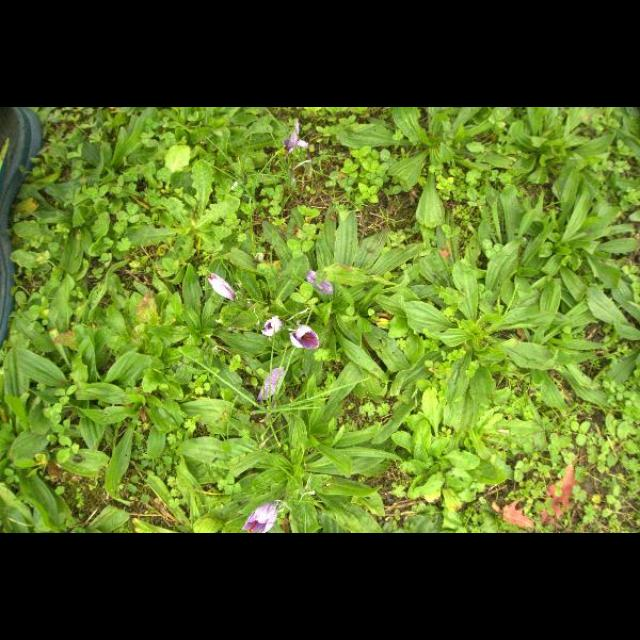flower: (242, 503, 280, 533), (207, 272, 237, 302), (290, 326, 320, 350), (262, 317, 282, 337)
